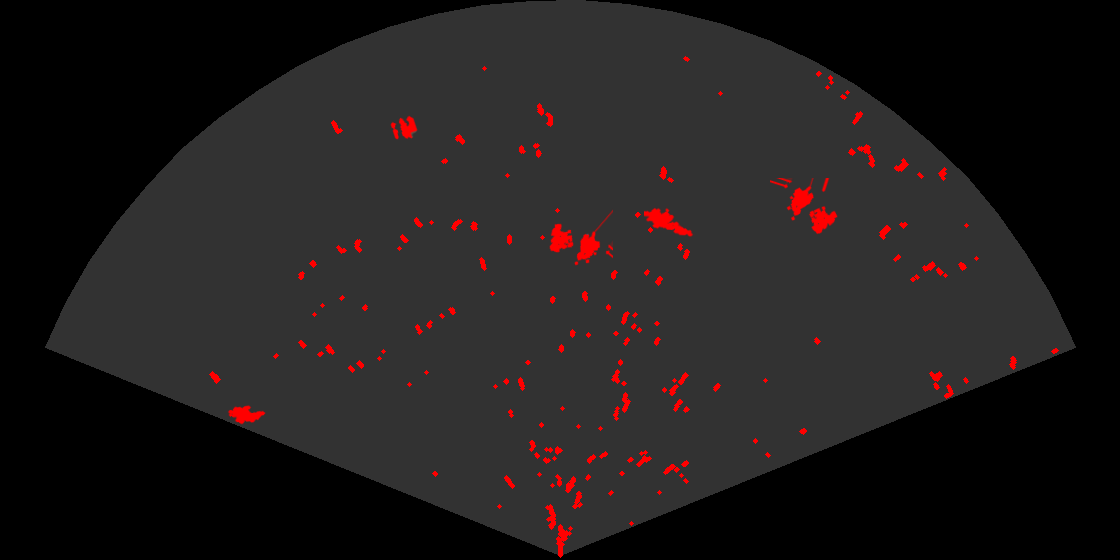AUV: (226, 404, 267, 426)
ball: (389, 114, 419, 141)
cage: (770, 178, 839, 236), (548, 208, 613, 267)
frogman: (644, 206, 695, 239)
